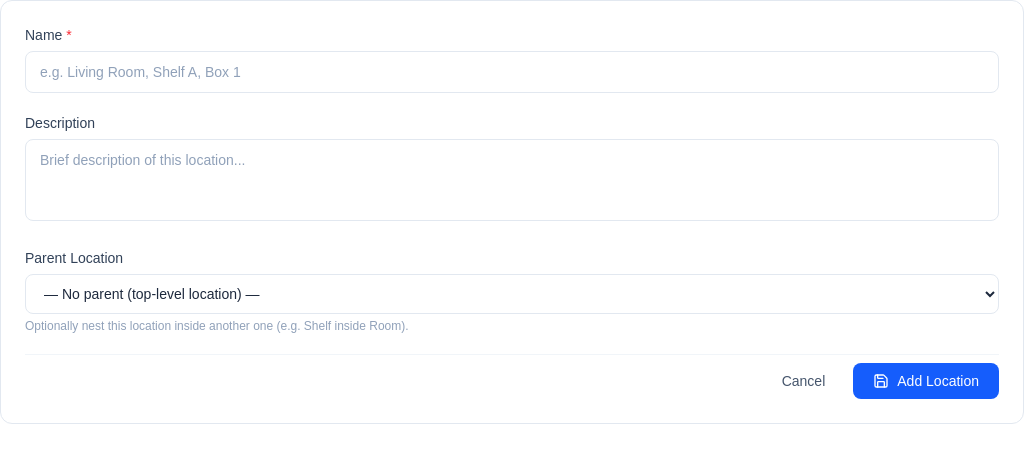
Test: LocationForm — add mode › shows validation error when name is empty on submit
The image size is (1024, 461).
Click the button "Add Location" at (926, 381), box [853,363,999,399]
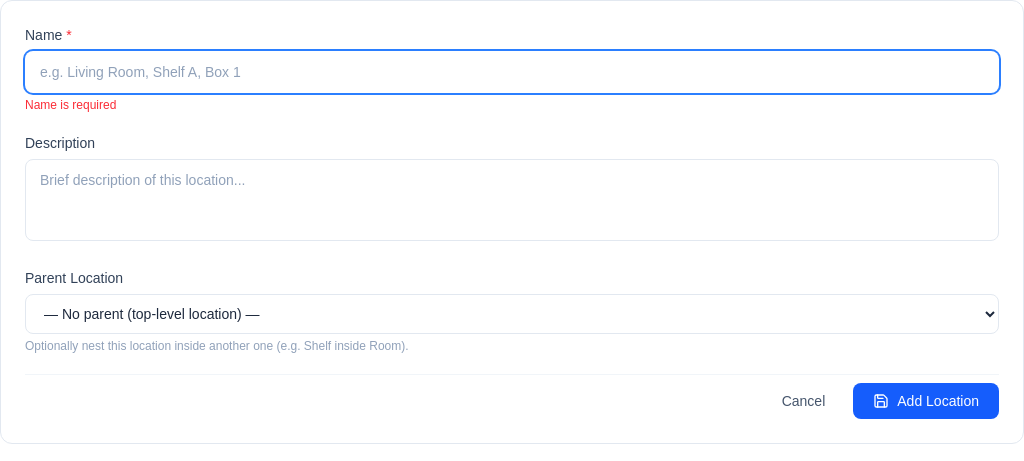
Result: the text "Name is required" is shown at [25,98,116,112]
